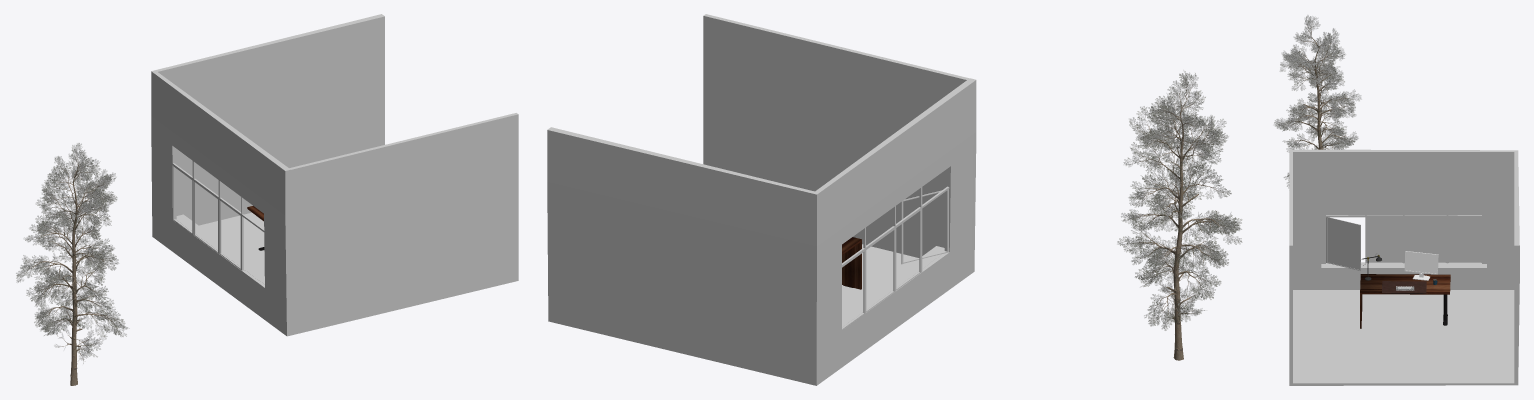
The picture shows the model from 3 angles, left to right: view 1: azimuth 30°, elevation 25°; view 2: azimuth 150°, elevation 25°; view 3: azimuth 270°, elevation 25°; orthographic projection. The views are drawn at different scales.
Parts seen in each view (by area): view 1: Room, Tree, Floor, Cube.081; view 2: Room, Tree, Floor, Cube.081, Plane_Desk_Material_0.001; view 3: Room, Floor, Plane.001, Tree, Plane_Desk_Material_0.001, Plane, Cube.081, Plane.002, Display, Cube.085.
Part boxes in pixels (x1=…): Room: x1=151, y1=14, x2=518, y2=336; Tree: x1=16, y1=143, x2=127, y2=385; Floor: x1=199, y1=212, x2=264, y2=273; Cube.081: x1=176, y1=214, x2=264, y2=284; Room: x1=547, y1=14, x2=976, y2=385; Tree: x1=1117, y1=71, x2=1241, y2=360; Floor: x1=842, y1=244, x2=918, y2=314; Cube.081: x1=842, y1=246, x2=945, y2=327; Plane_Desk_Material_0.001: x1=842, y1=237, x2=861, y2=289; Room: x1=1289, y1=149, x2=1519, y2=385; Floor: x1=1293, y1=290, x2=1514, y2=383; Plane.001: x1=1366, y1=201, x2=1481, y2=261; Tree: x1=1274, y1=15, x2=1361, y2=187; Plane_Desk_Material_0.001: x1=1360, y1=274, x2=1450, y2=328; Plane: x1=1327, y1=218, x2=1359, y2=269; Cube.081: x1=1321, y1=263, x2=1486, y2=271; Plane.002: x1=1326, y1=201, x2=1365, y2=215; Display: x1=1405, y1=252, x2=1437, y2=273; Cube.085: x1=1326, y1=215, x2=1481, y2=217.
Size of the model in its own units: 8.5 by 4.13 by 4.47.
Materials: 114 (7 with a texture image).
